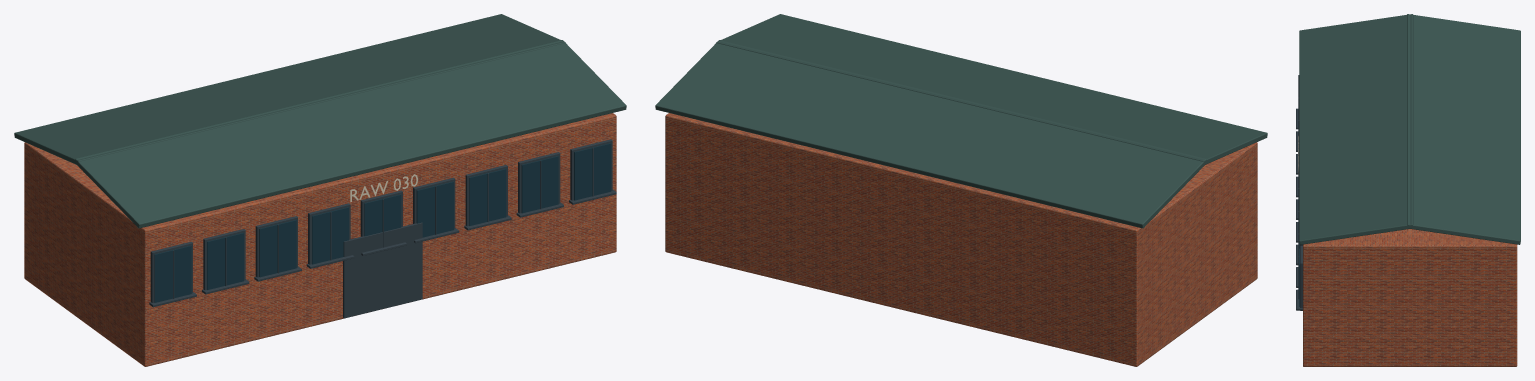
Rendered from raw-hall.glb.
The picture shows the model from 3 angles, left to right: view 1: azimuth 30°, elevation 25°; view 2: azimuth 150°, elevation 25°; view 3: azimuth 270°, elevation 25°; orthographic projection. The views are drawn at different scales.
Visible parts, largest first — view 1: DC_Mesh_DC_Roof, DC_Mesh_DC_Brick, DC_Mesh_DC_BlueGlass, DC_Mesh_DC_Steel; view 2: DC_Mesh_DC_Brick, DC_Mesh_DC_Roof; view 3: DC_Mesh_DC_Roof, DC_Mesh_DC_Brick, DC_Mesh_DC_Steel.
Boxes of the visible parts, x1,y1,x2,y2 form: DC_Mesh_DC_Roof: (14,14,626,228); DC_Mesh_DC_Brick: (24,113,616,366); DC_Mesh_DC_BlueGlass: (154,143,611,302); DC_Mesh_DC_Steel: (149,139,616,318); DC_Mesh_DC_Brick: (665,113,1257,366); DC_Mesh_DC_Roof: (655,14,1267,228); DC_Mesh_DC_Roof: (1299,14,1520,244); DC_Mesh_DC_Brick: (1303,229,1517,366); DC_Mesh_DC_Steel: (1296,75,1302,310).
Size of the model in its own units: 18.6 by 6.03 by 8.39.
5 materials, 1 textured.
